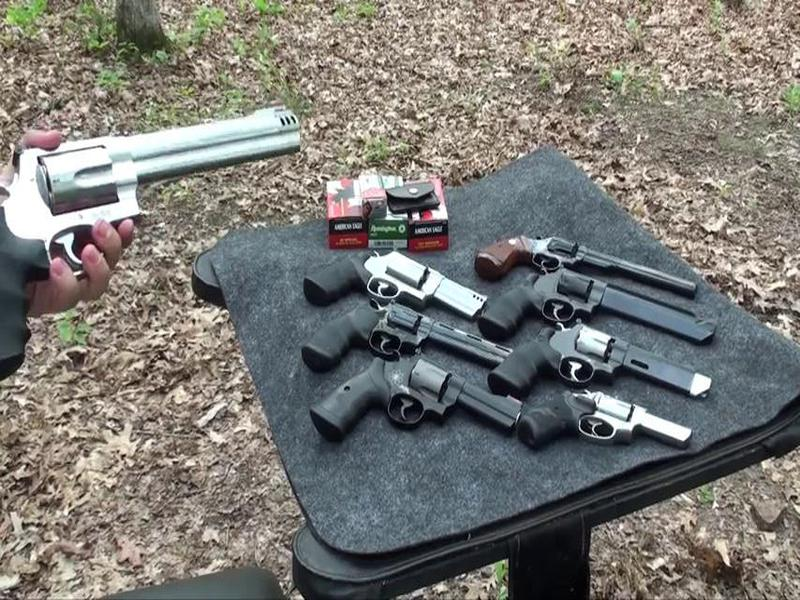Revolver: (1, 105, 284, 386)
